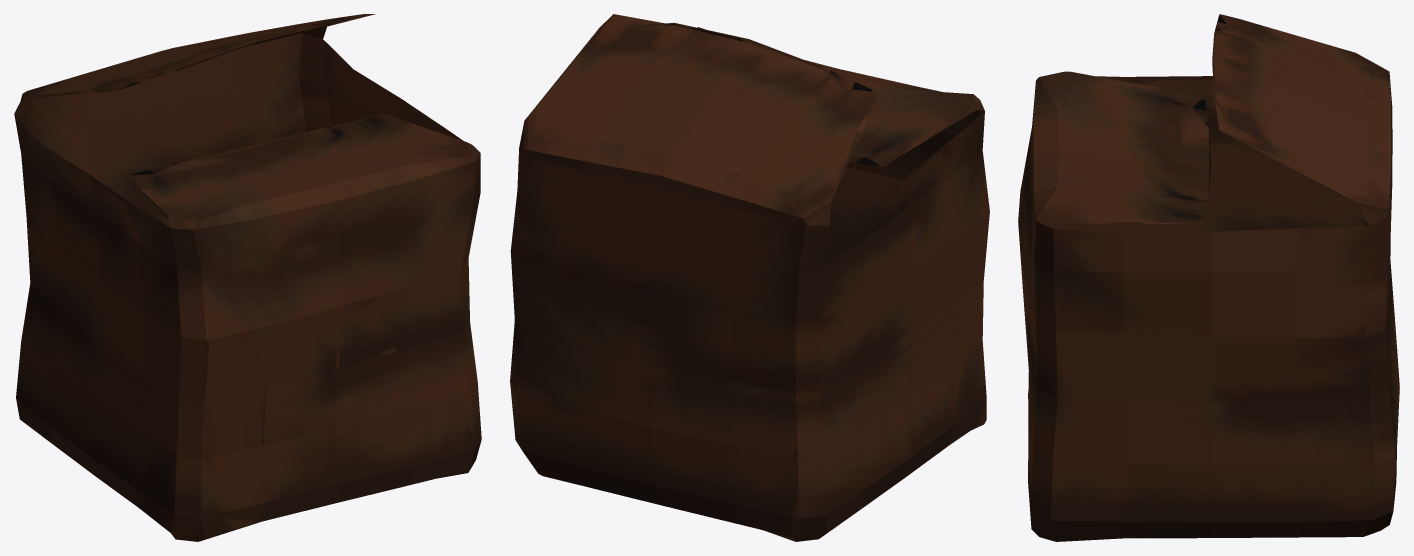
Rendered from Breakable_Box.glb.
3 views of the same model, side by side, from view 1: azimuth 30°, elevation 25°; view 2: azimuth 150°, elevation 25°; view 3: azimuth 270°, elevation 25° (orthographic). The views are drawn at different scales.
Parts seen in each view (by area): view 1: Exportable; view 2: Exportable; view 3: Exportable.
Part boxes in pixels (x1,y1,x2,y2): Exportable: (14, 14, 481, 541); Exportable: (510, 14, 989, 541); Exportable: (1018, 14, 1399, 541).
Size of the model in its own units: 2.12 by 2.51 by 2.11.
Materials: 1 (1 with a texture image).
